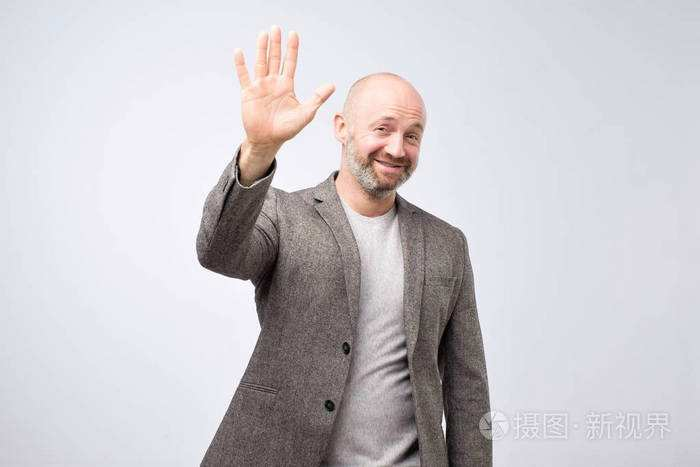no-phone: (230, 23, 338, 147)
